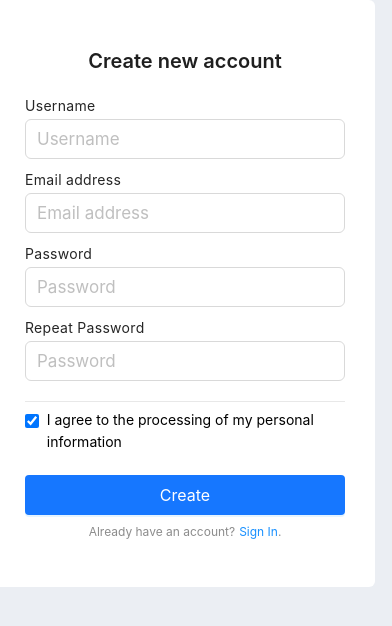
Test: Component: SignUp › Should show error popap when server responds with error
The image size is (392, 626).
In the field with placeholder "Username": (185, 139) [25,119,345,159], type "hackerman"
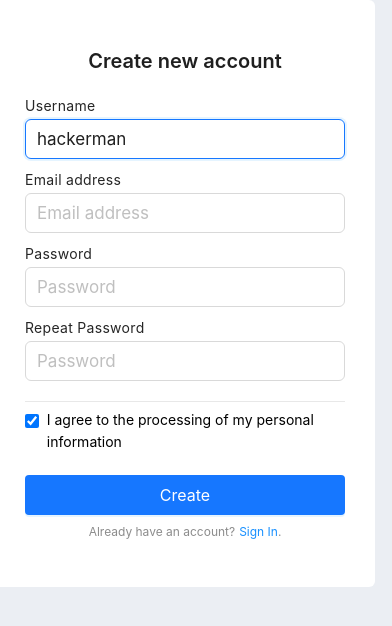
In the field with placeholder "Email address": (185, 213) [25,193,345,233], type "cybercat@gmail.com"
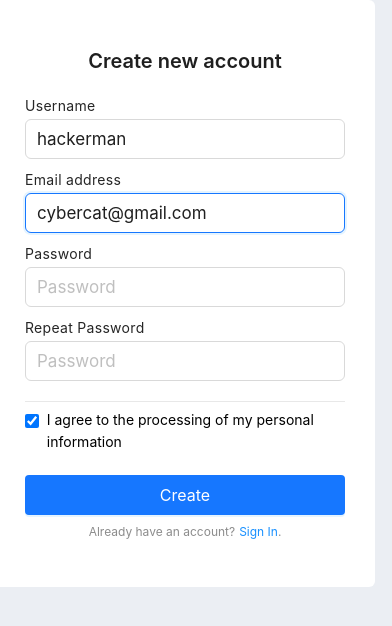
In the password field with test id "password": (185, 287) [25,267,345,307], type "qwertycat"
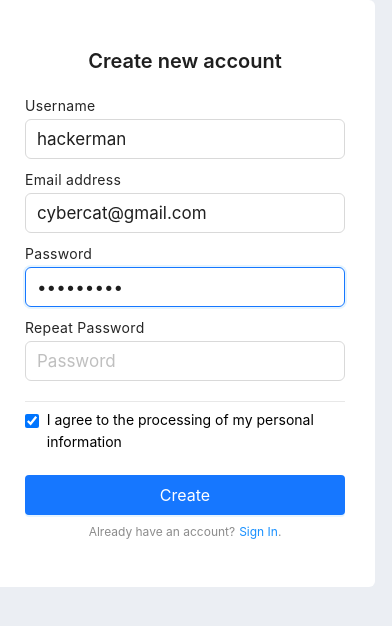
In the password field with test id "repeat-password": (185, 361) [25,341,345,381], type "qwertycat"
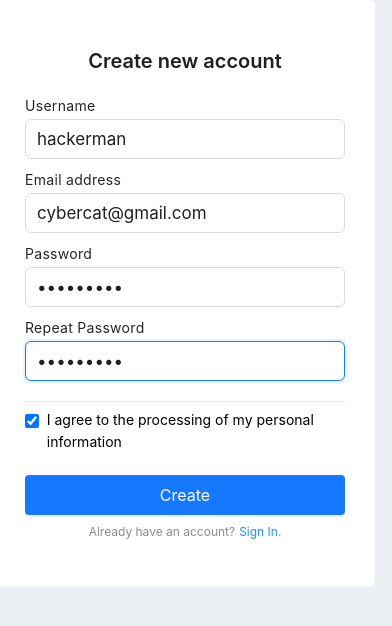
Click the button with test id "create": (185, 495) [25,475,345,515]
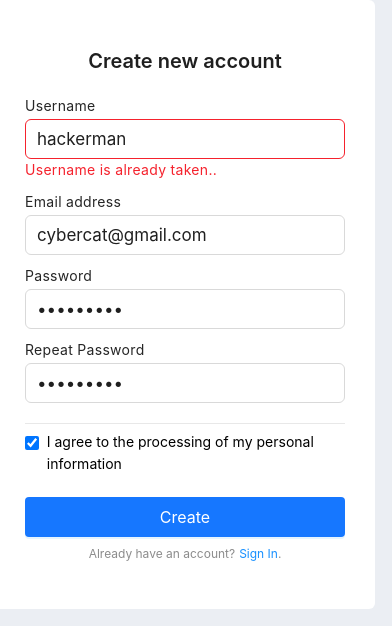
Expected: the text "Username is already taken.." is shown, [25,161,217,178]
